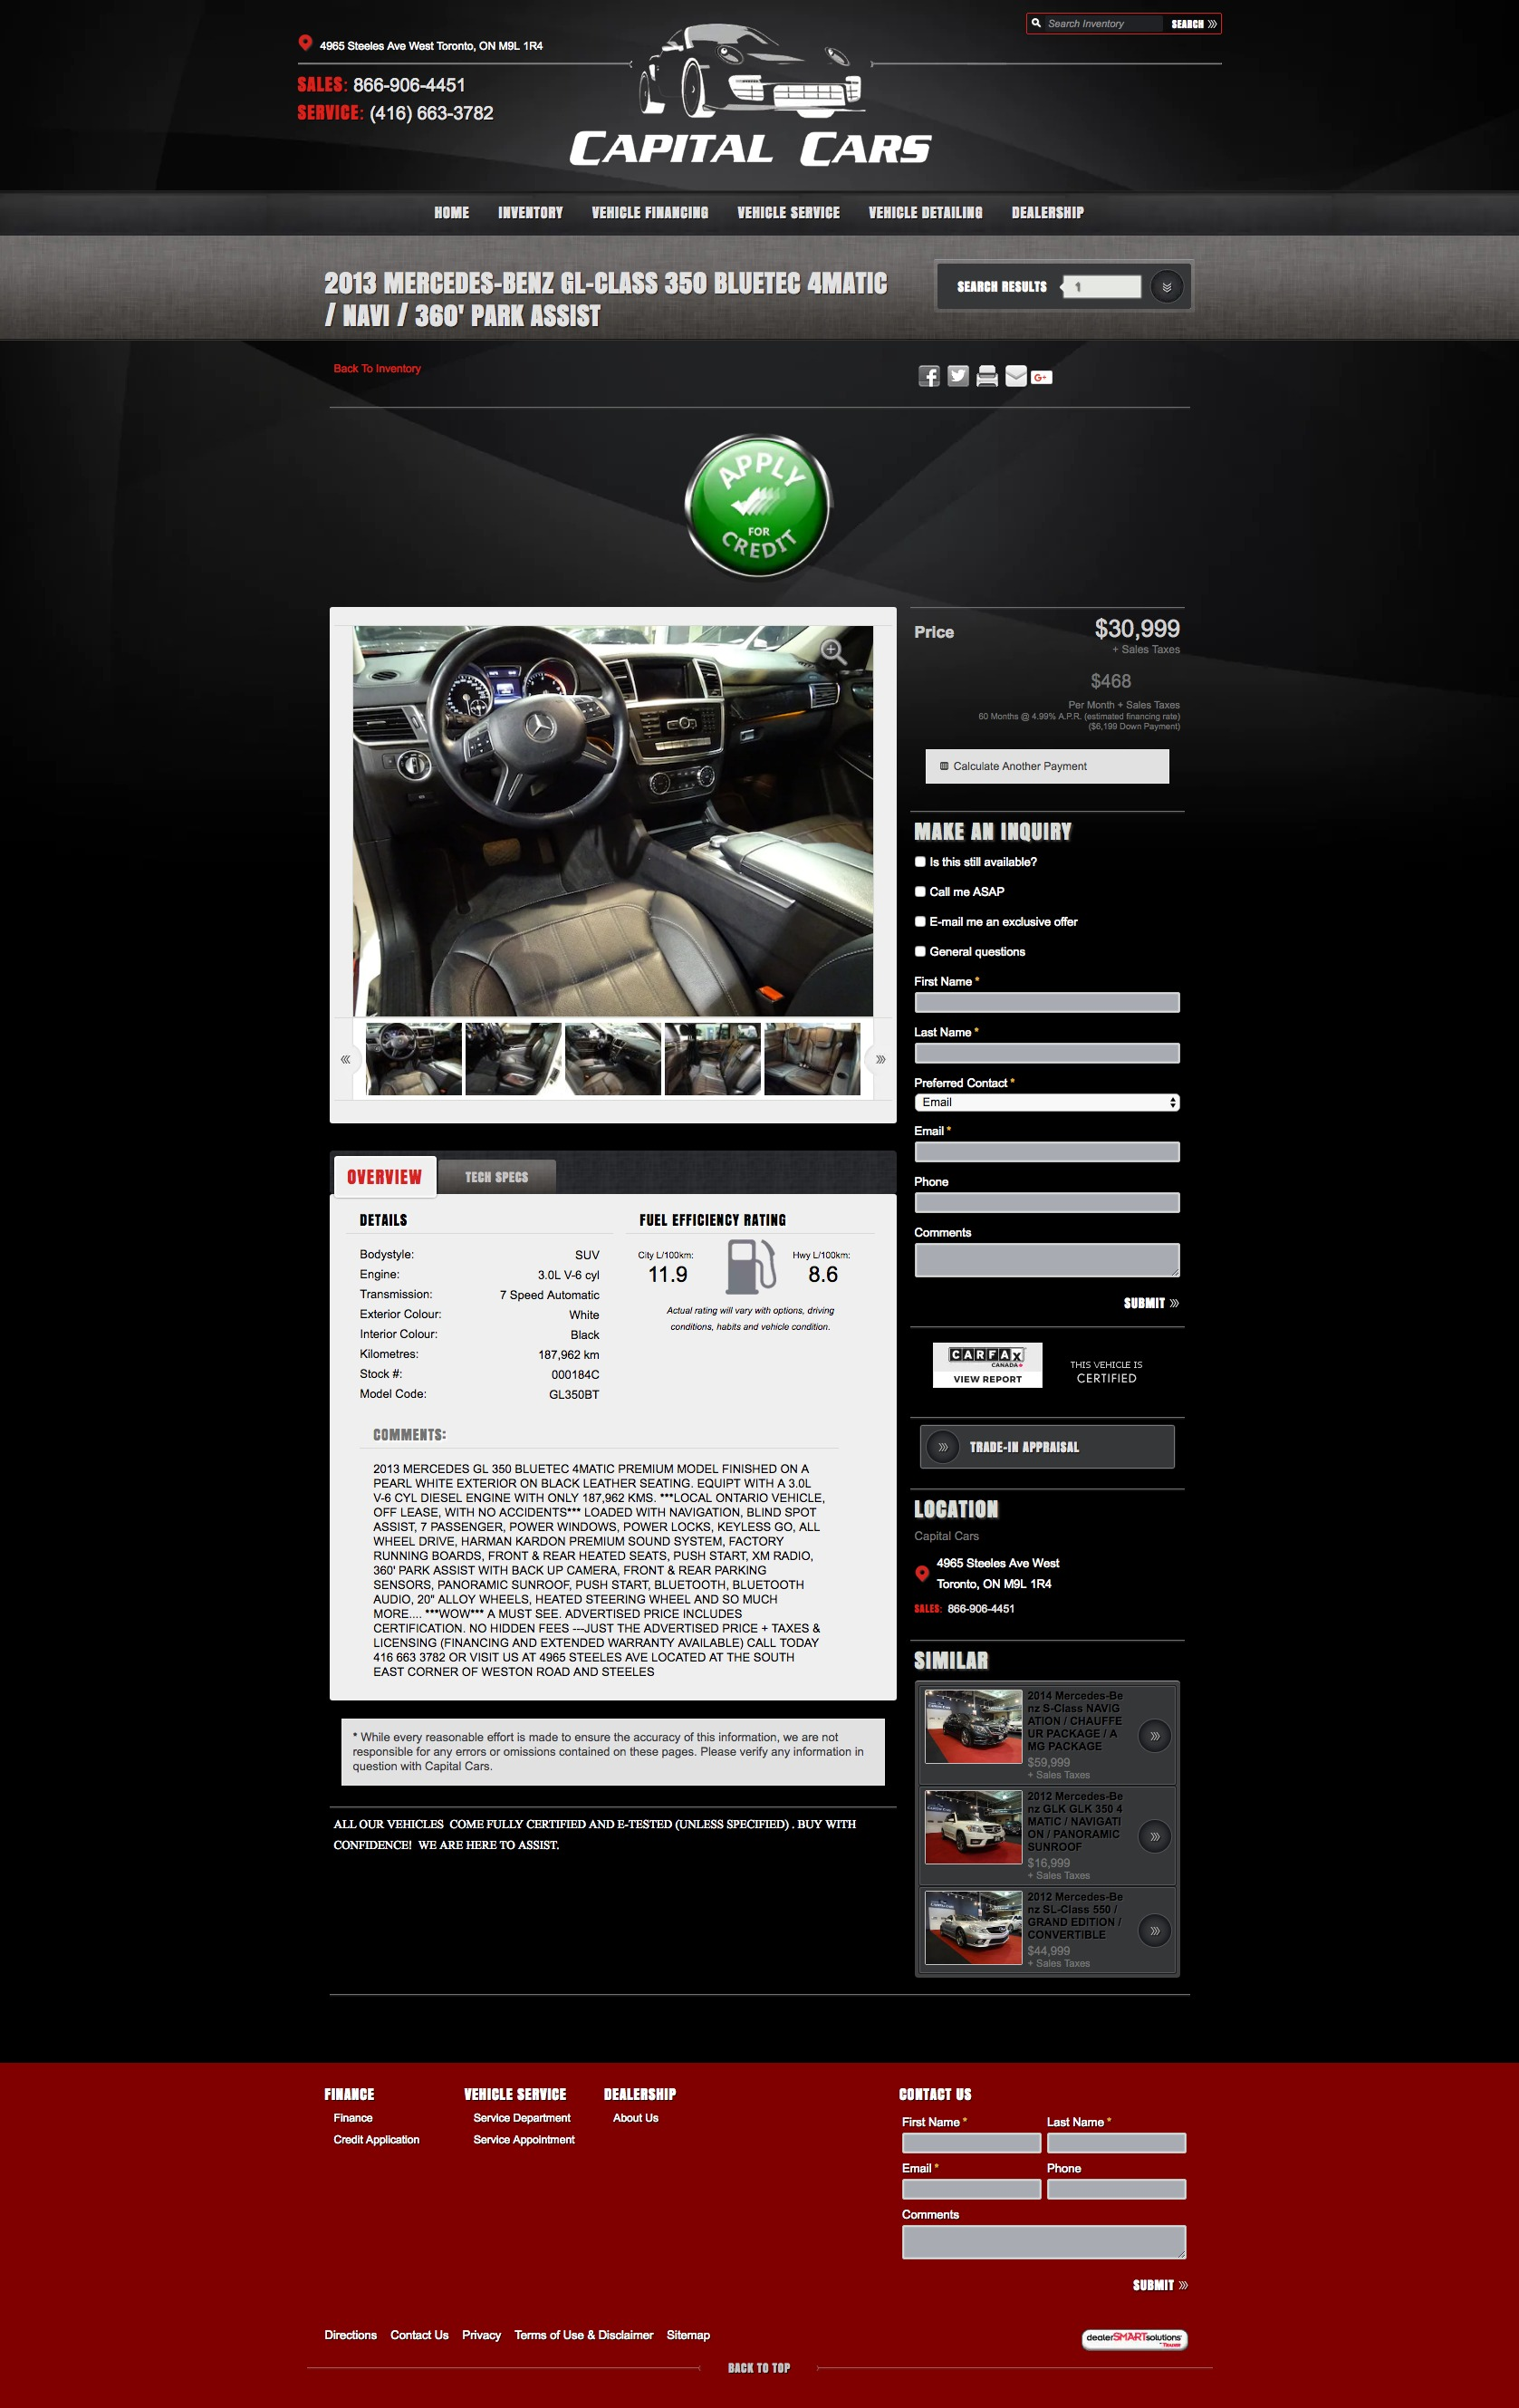car: (870, 1053, 891, 1071)
